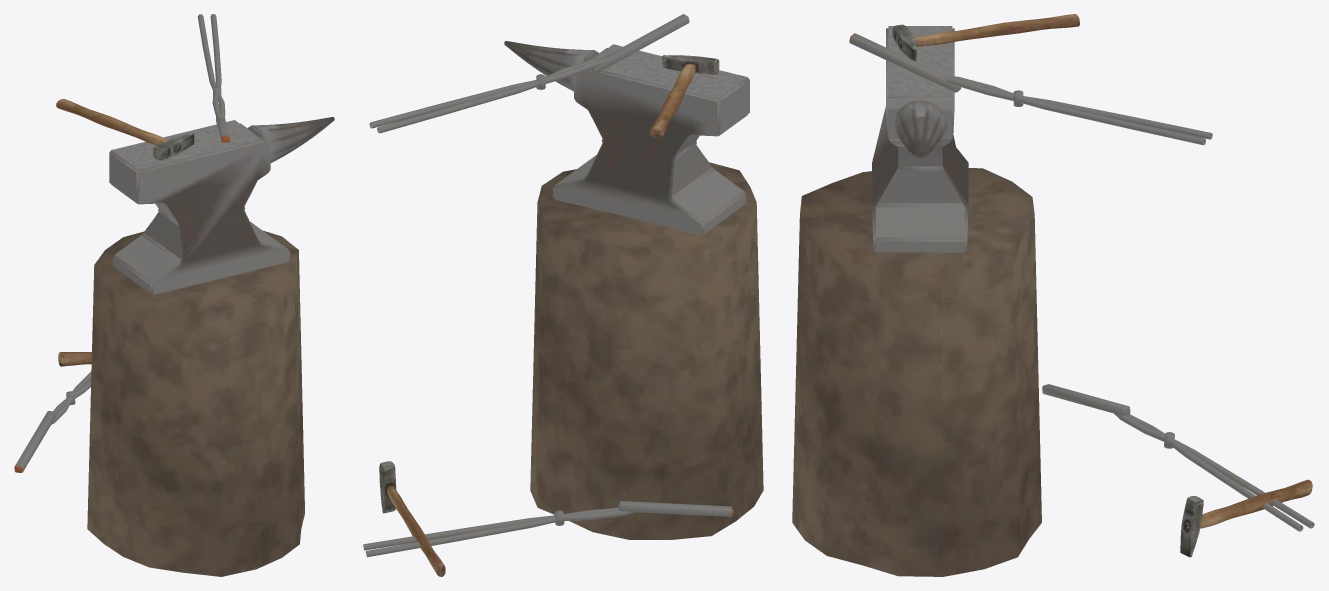
File: village-smith-props-quest.glb
The picture shows the model from 3 angles, left to right: view 1: azimuth 30°, elevation 25°; view 2: azimuth 150°, elevation 25°; view 3: azimuth 270°, elevation 25°; orthographic projection. The views are drawn at different scales.
Parts seen in each view (by area): view 1: workplace_static, prop_hammer_rest, prop_tongs_rest, prop_workpiece, prop_tongs, prop_hammer; view 2: workplace_static, prop_tongs, prop_tongs_rest, prop_hammer_rest, prop_hammer, prop_workpiece, prop_workpiece_rest; view 3: workplace_static, prop_tongs_rest, prop_hammer, prop_tongs, prop_hammer_rest, prop_workpiece_rest, prop_workpiece.
Boxes of the visible parts, <box> form: workplace_static: <box>87,117,334,576</box>; prop_hammer_rest: <box>56,99,194,160</box>; prop_tongs_rest: <box>197,14,225,118</box>; prop_workpiece: <box>14,411,55,472</box>; prop_tongs: <box>51,371,91,424</box>; prop_hammer: <box>58,352,91,366</box>; workplace_static: <box>504,41,763,539</box>; prop_tongs: <box>363,507,634,557</box>; prop_tongs_rest: <box>369,57,607,133</box>; prop_hammer_rest: <box>648,55,719,137</box>; prop_hammer: <box>379,461,445,576</box>; prop_workpiece: <box>618,501,733,516</box>; prop_workpiece_rest: <box>590,14,689,73</box>; workplace_static: <box>792,26,1041,576</box>; prop_tongs_rest: <box>942,75,1212,145</box>; prop_hammer: <box>1180,479,1312,557</box>; prop_tongs: <box>1114,413,1314,531</box>; prop_hammer_rest: <box>892,14,1079,61</box>; prop_workpiece_rest: <box>849,33,960,92</box>; prop_workpiece: <box>1042,384,1130,415</box>.
Bounding box in the file's own units: 0.5779 × 0.8581 × 0.8368.
Materials: 1 (1 with a texture image).
